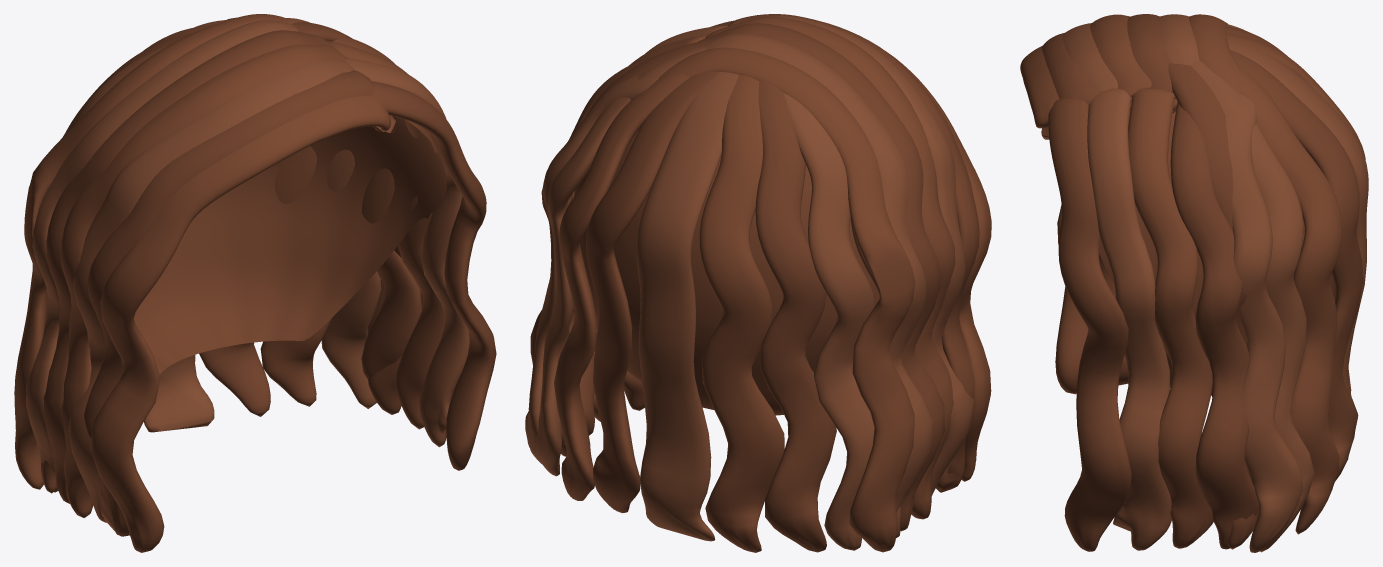
The model's file is curls-pashmina-default.glb.
3 renders of one model, left to right at view 1: azimuth 30°, elevation 25°; view 2: azimuth 150°, elevation 25°; view 3: azimuth 270°, elevation 25°, orthographic.
Parts seen in each view (by area): view 1: 226 hair / Hair / sculpted 0.001, 226 hair / Hair / sculpted 1.002, 226 hair / Hair / sculpted 1.001, 226 hair / Hair / sculpted 2.001; view 2: 226 hair / Hair / sculpted 0.001, 226 hair / Hair / sculpted 2.001, 226 hair / Hair / sculpted 1.002, 226 hair / Hair / sculpted 1.001; view 3: 226 hair / Hair / sculpted 1.002, 226 hair / Hair / sculpted 2.001, 226 hair / Hair / sculpted 0.001, 226 hair / Hair / sculpted 1.001.
Boxes of the visible parts, left/top/right/bottom form: 226 hair / Hair / sculpted 0.001: left=14, top=14, right=444, bottom=552; 226 hair / Hair / sculpted 1.002: left=43, top=17, right=496, bottom=536; 226 hair / Hair / sculpted 1.001: left=134, top=117, right=446, bottom=375; 226 hair / Hair / sculpted 2.001: left=26, top=18, right=469, bottom=522; 226 hair / Hair / sculpted 0.001: left=554, top=16, right=991, bottom=552; 226 hair / Hair / sculpted 2.001: left=525, top=15, right=974, bottom=550; 226 hair / Hair / sculpted 1.002: left=530, top=14, right=979, bottom=552; 226 hair / Hair / sculpted 1.001: left=574, top=129, right=879, bottom=415; 226 hair / Hair / sculpted 1.002: left=1042, top=14, right=1362, bottom=551; 226 hair / Hair / sculpted 2.001: left=1063, top=14, right=1368, bottom=552; 226 hair / Hair / sculpted 0.001: left=1020, top=14, right=1365, bottom=548; 226 hair / Hair / sculpted 1.001: left=1099, top=111, right=1335, bottom=396.
Bounding box in the file's own units: 0.9172 × 0.9886 × 0.696.
